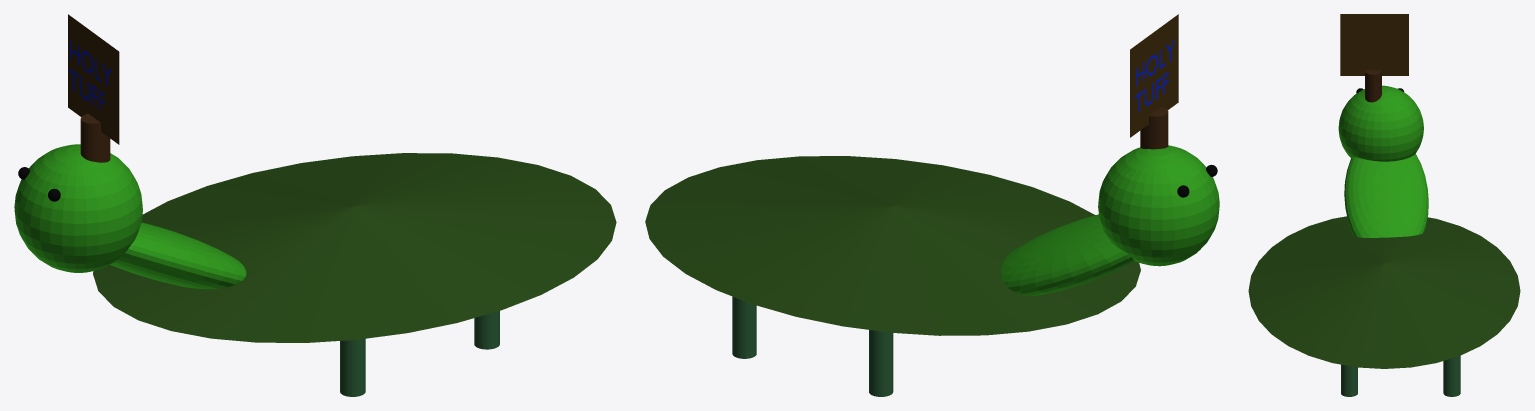
Rendered from TuffTurtle.glb.
The picture shows the model from 3 angles, left to right: view 1: azimuth 30°, elevation 25°; view 2: azimuth 150°, elevation 25°; view 3: azimuth 270°, elevation 25°; orthographic projection. The views are drawn at different scales.
Visible parts, largest first — view 1: Cone, Sphere, Sphere.001, Plane, Cylinder.001, Cylinder.004, Cylinder.003, Text; view 2: Cone, Sphere, Sphere.001, Plane, Cylinder.002, Cylinder, Cylinder.004, Text; view 3: Cone, Sphere.001, Sphere, Plane, Cylinder, Cylinder.004, Cylinder.003.
Boxes of the visible parts, left/top/right/bottom form: Cone: left=93, top=153, right=616, bottom=342; Sphere: left=14, top=144, right=142, bottom=272; Sphere.001: left=110, top=222, right=246, bottom=289; Plane: left=68, top=14, right=119, bottom=144; Cylinder.001: left=340, top=338, right=365, bottom=396; Cylinder.004: left=80, top=113, right=110, bottom=162; Cylinder.003: left=474, top=311, right=499, bottom=349; Text: left=69, top=40, right=111, bottom=110; Cone: left=645, top=156, right=1140, bottom=335; Sphere: left=1098, top=145, right=1219, bottom=266; Sphere.001: left=1001, top=214, right=1134, bottom=295; Plane: left=1130, top=14, right=1178, bottom=137; Cylinder.002: left=869, top=330, right=893, bottom=396; Cylinder: left=732, top=296, right=756, bottom=358; Cylinder.004: left=1140, top=107, right=1168, bottom=149; Text: left=1135, top=39, right=1174, bottom=111; Cone: left=1248, top=216, right=1520, bottom=368; Sphere.001: left=1344, top=153, right=1428, bottom=237; Sphere: left=1338, top=85, right=1423, bottom=161; Plane: left=1340, top=14, right=1408, bottom=75; Cylinder: left=1443, top=356, right=1460, bottom=396; Cylinder.004: left=1365, top=70, right=1381, bottom=102; Cylinder.003: left=1341, top=364, right=1357, bottom=396.
Bounding box in the file's own units: 10.31 × 6.66 × 6.36.
